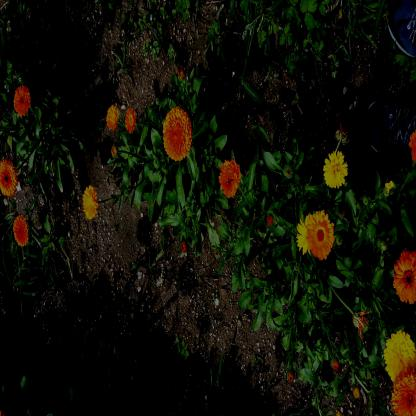marigold: (384, 331, 416, 384), (164, 109, 192, 160), (308, 211, 334, 259), (394, 252, 416, 302), (392, 372, 416, 413), (324, 152, 348, 188), (219, 160, 241, 198), (0, 157, 16, 196), (14, 86, 30, 118), (13, 215, 28, 246), (83, 185, 97, 218), (106, 104, 118, 128), (126, 110, 135, 132)
